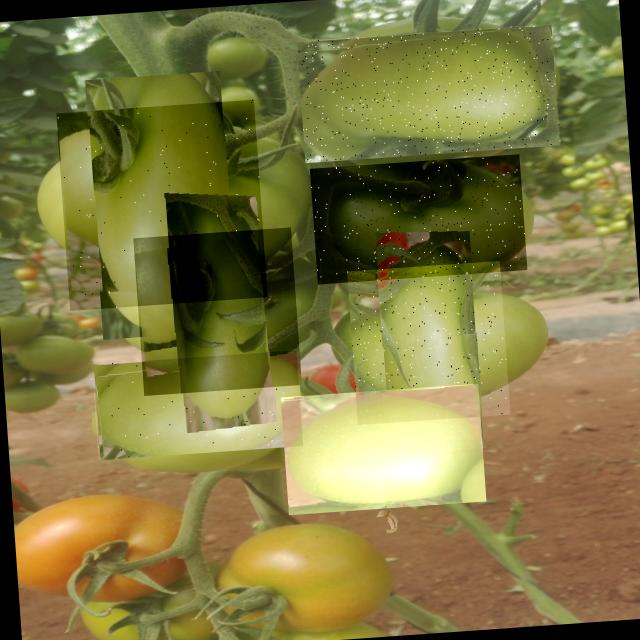Unripe Tomato: (56, 100, 267, 310), (296, 23, 560, 163), (132, 227, 302, 396), (309, 154, 527, 284), (280, 383, 486, 515), (347, 260, 510, 424), (89, 350, 303, 460)
